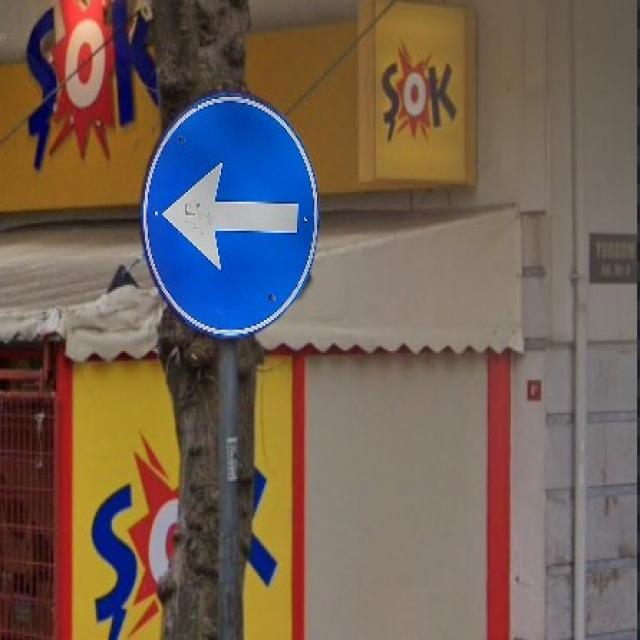Turn Left: (152, 101, 321, 322)
